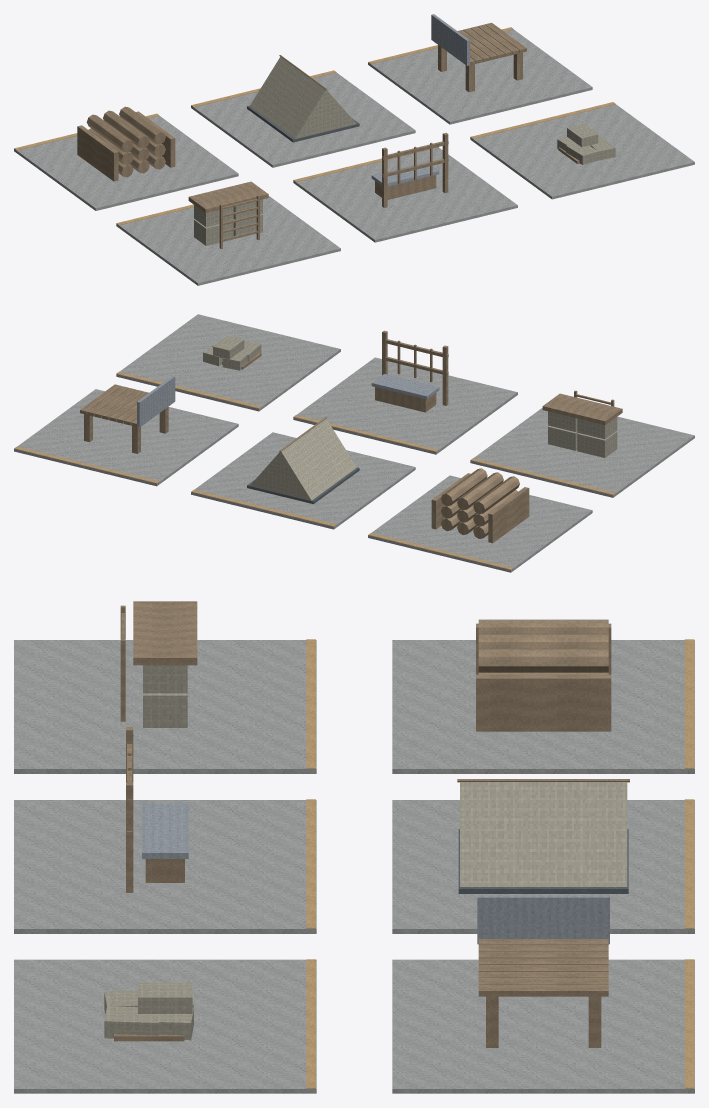
Rendered from level_blockout_kit_wld_02_p01.glb.
3 renders of one model, top to bottom at view 1: azimuth 30°, elevation 25°; view 2: azimuth 150°, elevation 25°; view 3: azimuth 270°, elevation 25°, orthographic. The views are drawn at different scales.
Parts seen in each view (by area): view 1: level_blockout_kit_wld_02_p01; view 2: level_blockout_kit_wld_02_p01; view 3: level_blockout_kit_wld_02_p01.
Part boxes in pixels (left/top/right/bottom): level_blockout_kit_wld_02_p01: left=14, top=14, right=694, bottom=285; level_blockout_kit_wld_02_p01: left=14, top=314, right=694, bottom=572; level_blockout_kit_wld_02_p01: left=14, top=601, right=694, bottom=1093.
Bounding box in the file's own units: 19.65 × 2.31 × 12.6.
6 materials, 6 textured.
